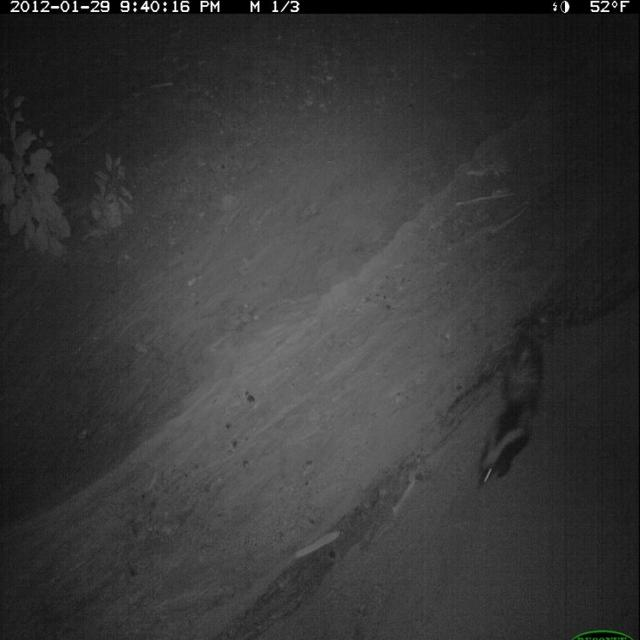skunk: (471, 327, 547, 493)
